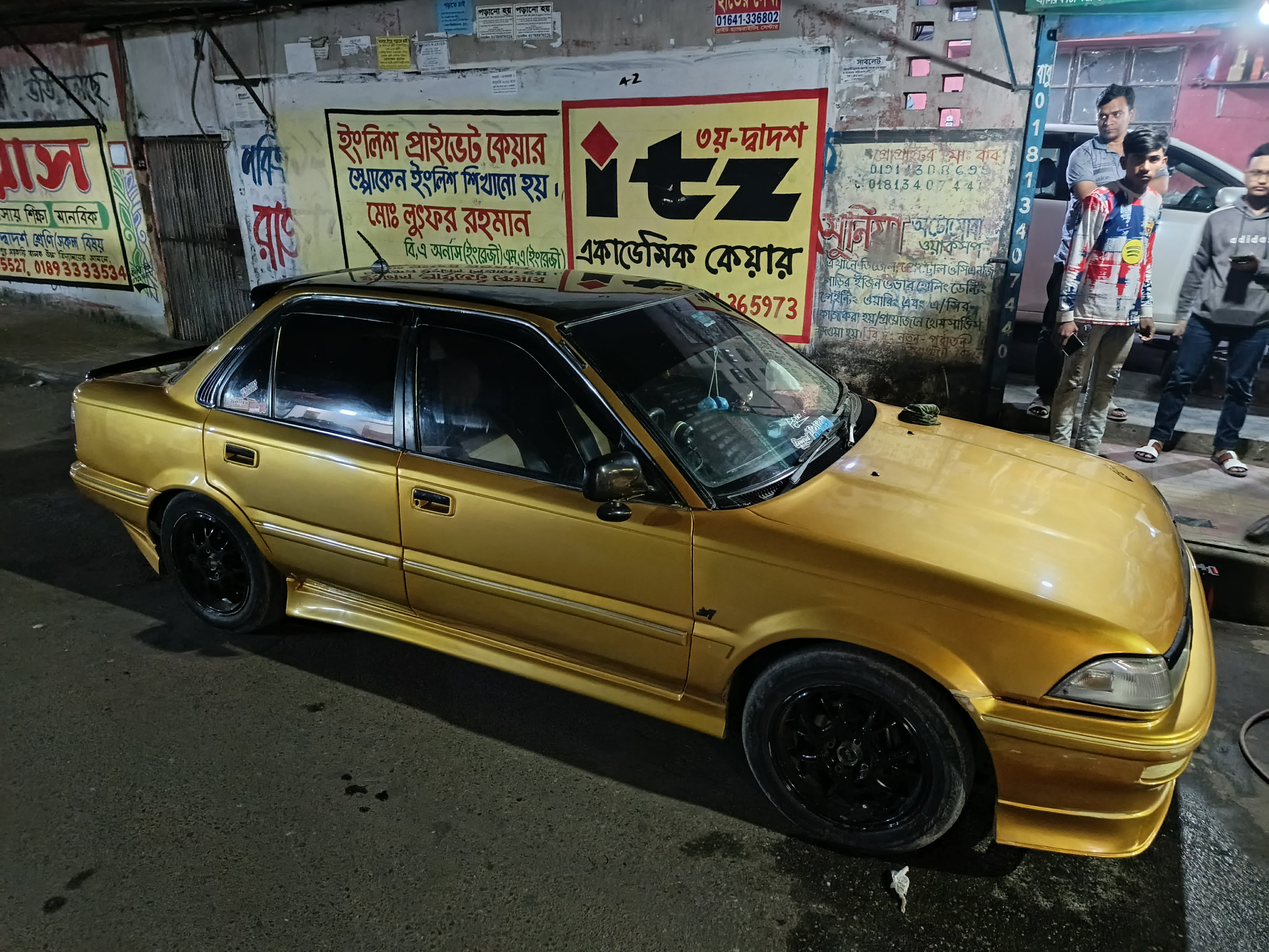private car: (77, 238, 1248, 881), (1007, 111, 1269, 355)
